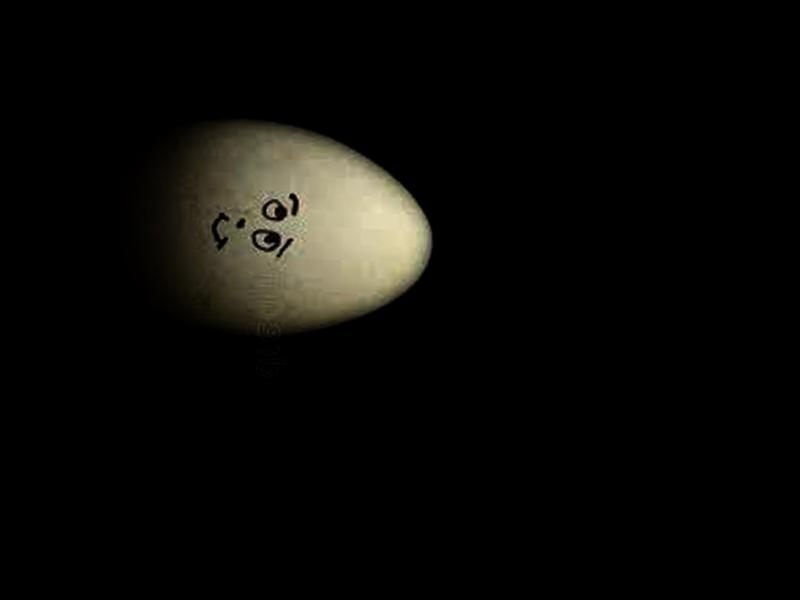Eggs: (108, 113, 439, 343)
